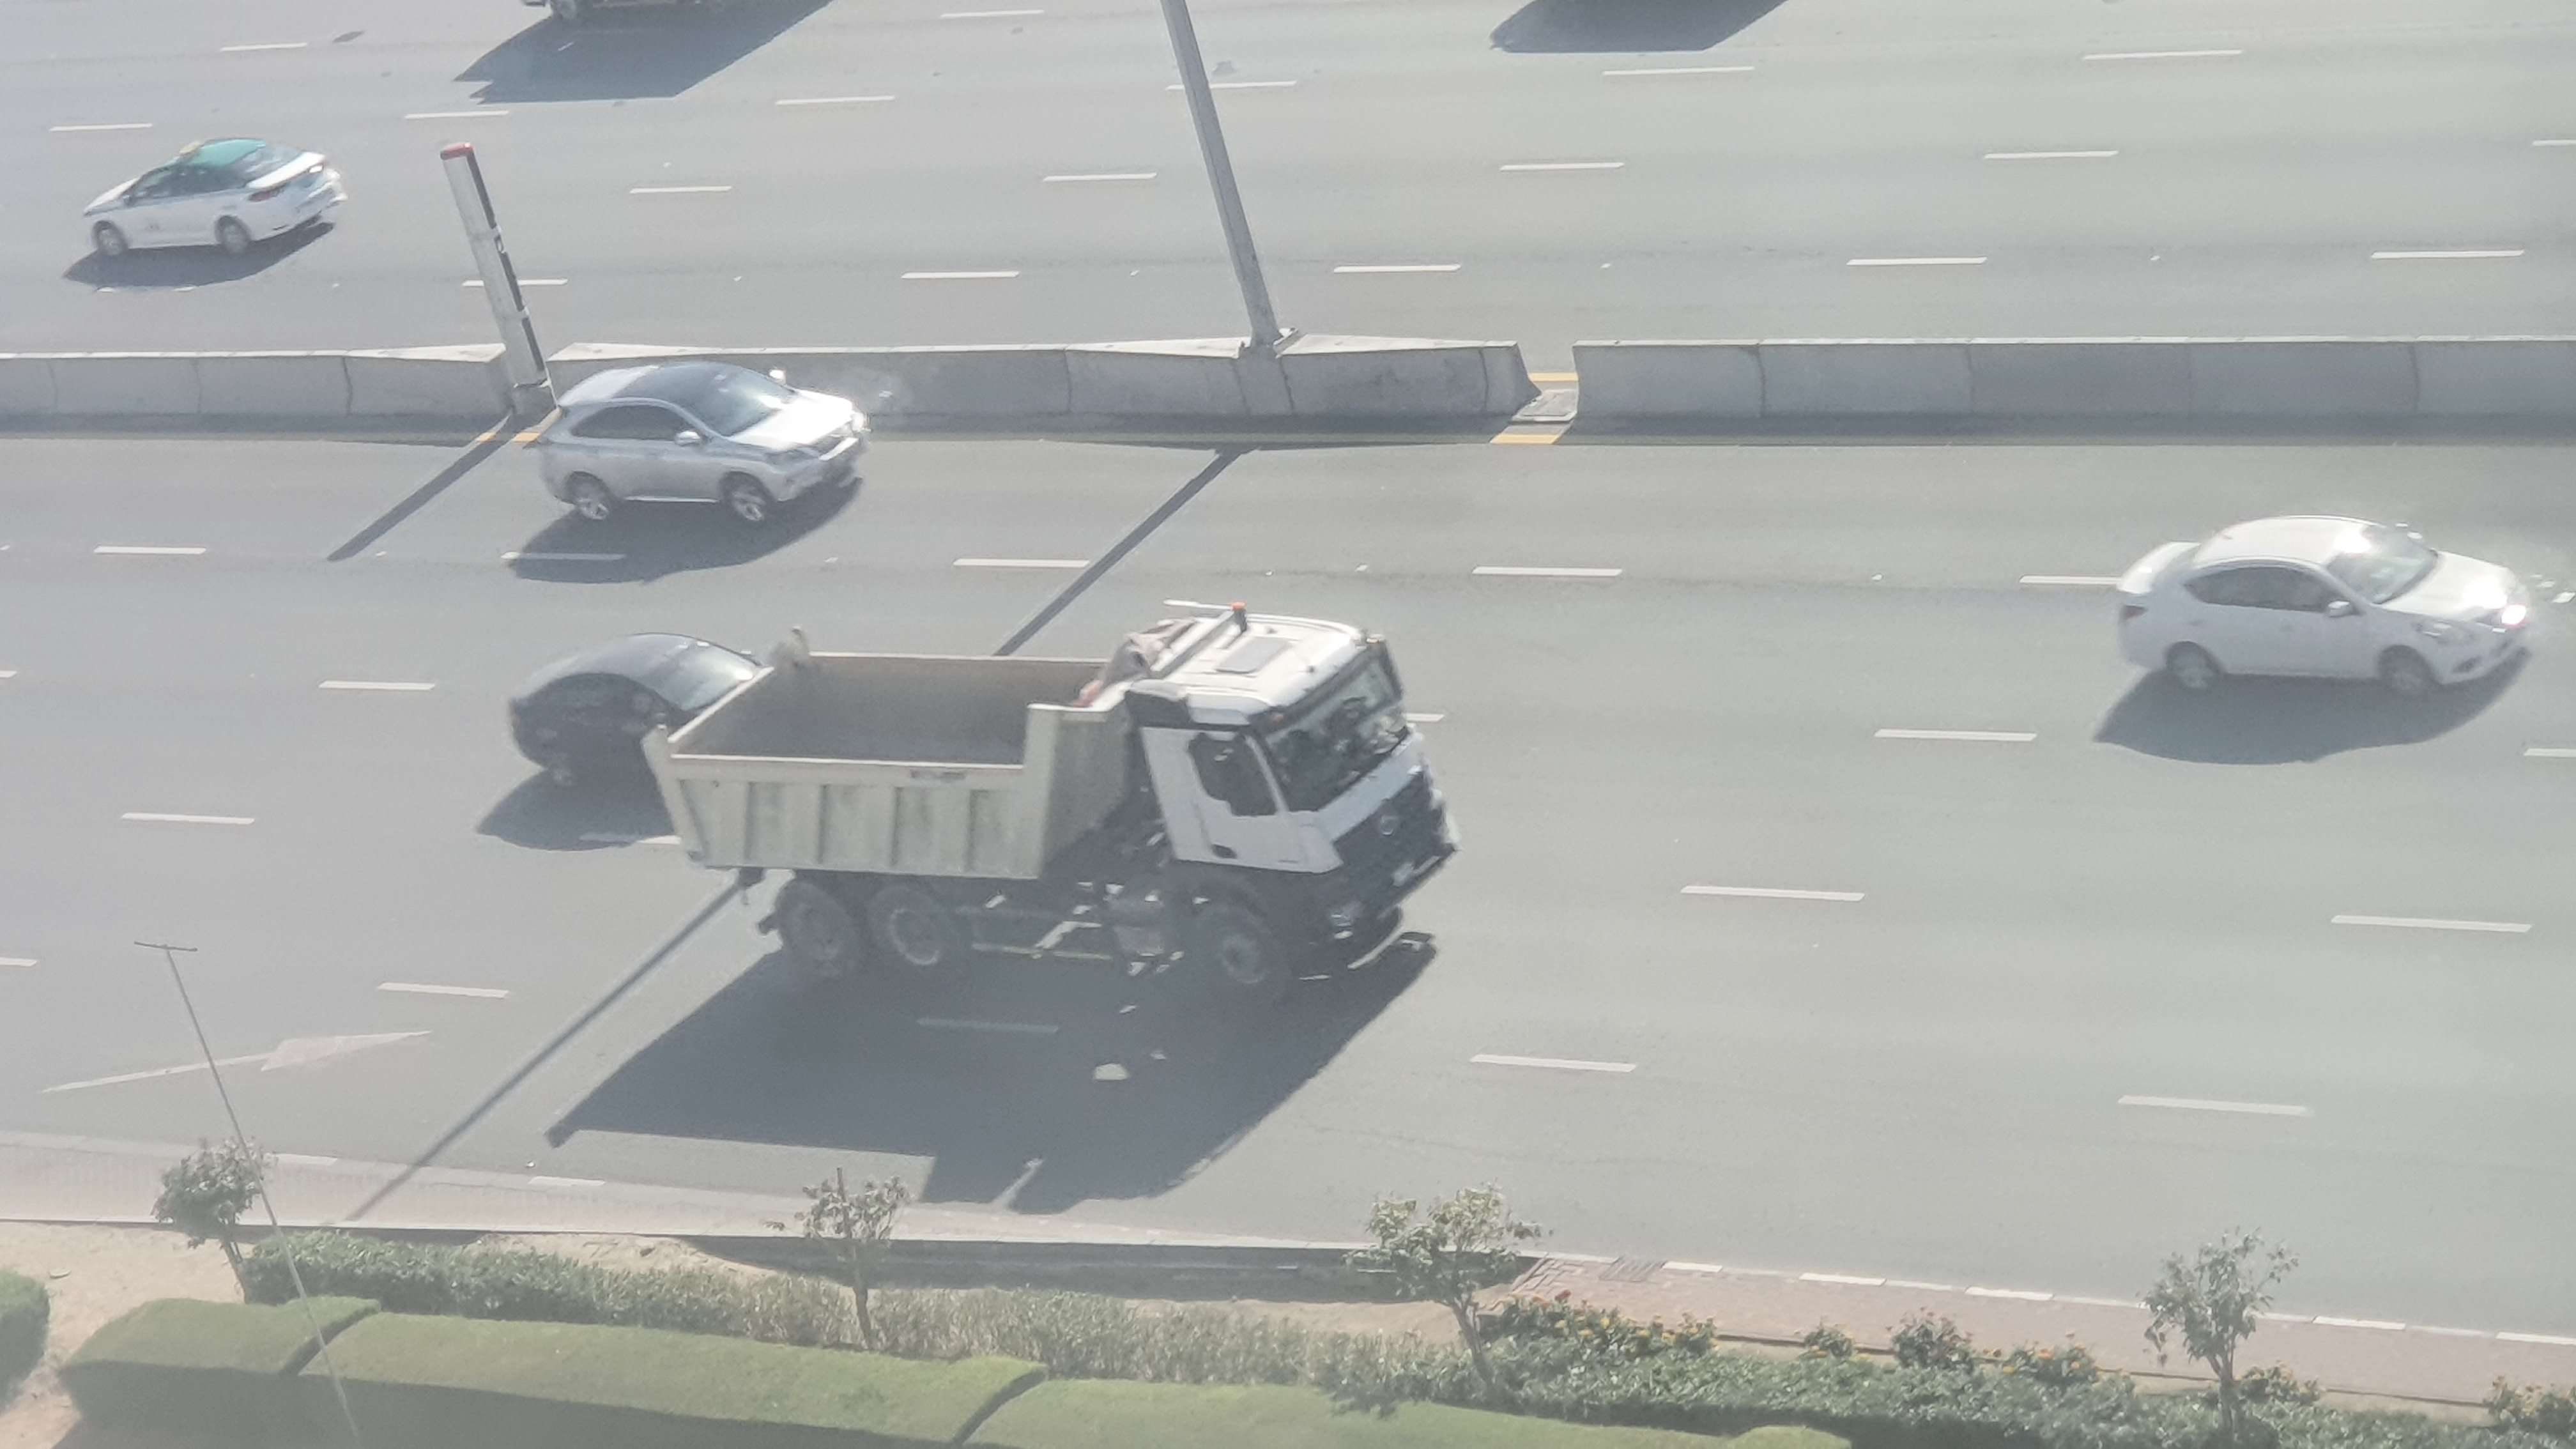NotSunroof: (2118, 504, 2544, 711), (508, 633, 708, 715)
Sunroof: (545, 357, 872, 531)
